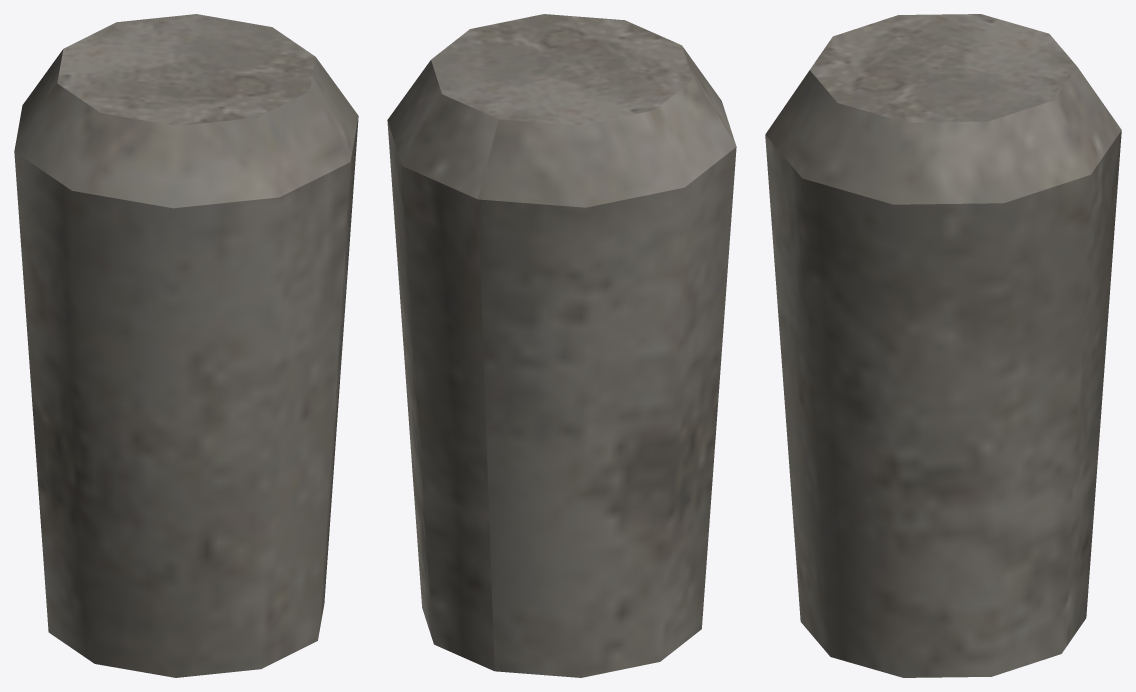
File: Garbage_00_00S.fbx
3 views of the same model, side by side, from view 1: azimuth 30°, elevation 25°; view 2: azimuth 150°, elevation 25°; view 3: azimuth 270°, elevation 25° (orthographic).
Parts seen in each view (by area): view 1: LODGroup_1_MainMesh_1_SubMesh_1; view 2: LODGroup_1_MainMesh_1_SubMesh_1; view 3: LODGroup_1_MainMesh_1_SubMesh_1.
Boxes of the visible parts, box(x1,y1,x2,y2) form: LODGroup_1_MainMesh_1_SubMesh_1: box(14, 14, 358, 677); LODGroup_1_MainMesh_1_SubMesh_1: box(387, 14, 736, 677); LODGroup_1_MainMesh_1_SubMesh_1: box(765, 14, 1121, 677).
Bounding box in the file's own units: 8.26 × 14.67 × 8.6.
